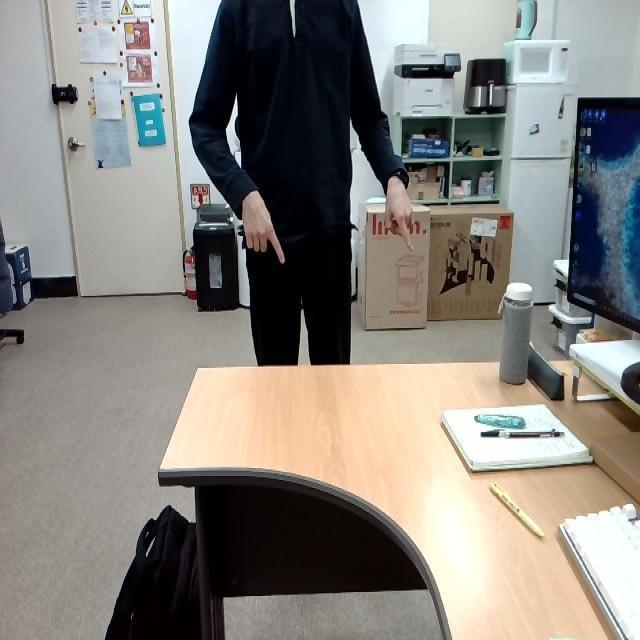bare_hand: (236, 182, 296, 268), (379, 167, 421, 255)
